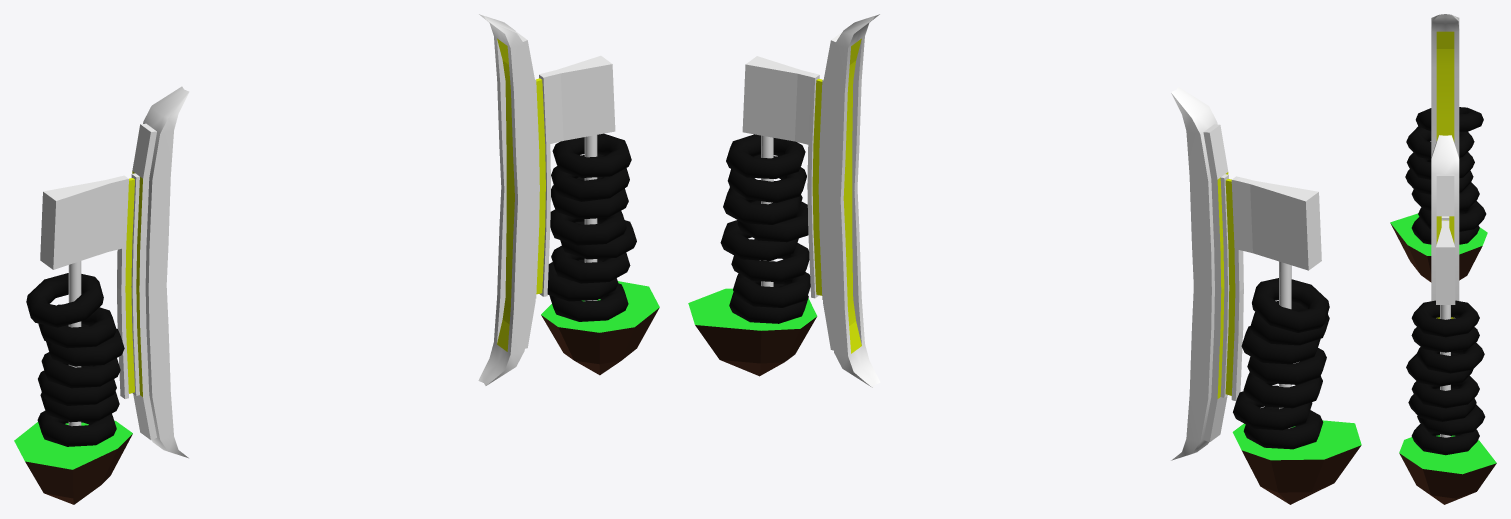
The model's file is RubberPortal.FBX.
The picture shows the model from 3 angles, left to right: view 1: azimuth 30°, elevation 25°; view 2: azimuth 150°, elevation 25°; view 3: azimuth 270°, elevation 25°; orthographic projection. The views are drawn at different scales.
Visible parts, largest first — view 1: Box004; view 2: Box004; view 3: Box004.
Part boxes in pixels (box(x1,y1,x2,y2)): Box004: box(14, 14, 659, 504); Box004: box(688, 14, 1361, 504); Box004: box(1390, 14, 1496, 504).
Size of the model in its own units: 670 by 383 by 115.
